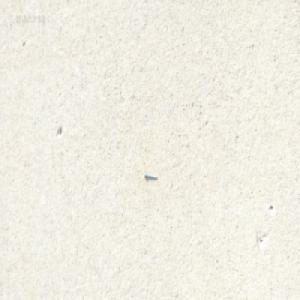Nail: (144, 171, 156, 179)
